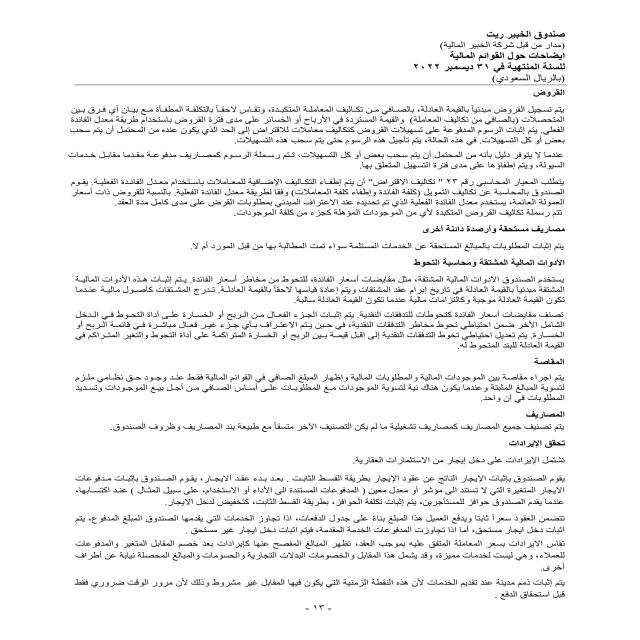notes: (441, 48, 582, 63)
text: (31, 98, 586, 602)
